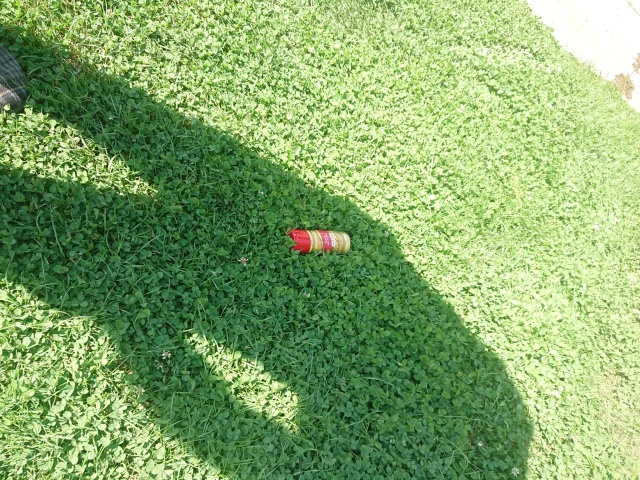Kotanyi Curry Spices Mix 70g: (286, 227, 354, 256)
